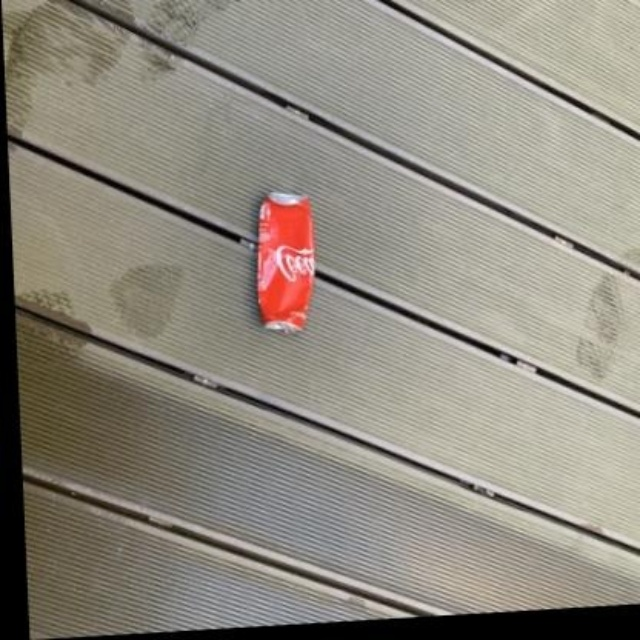trash: (257, 192, 312, 331)
